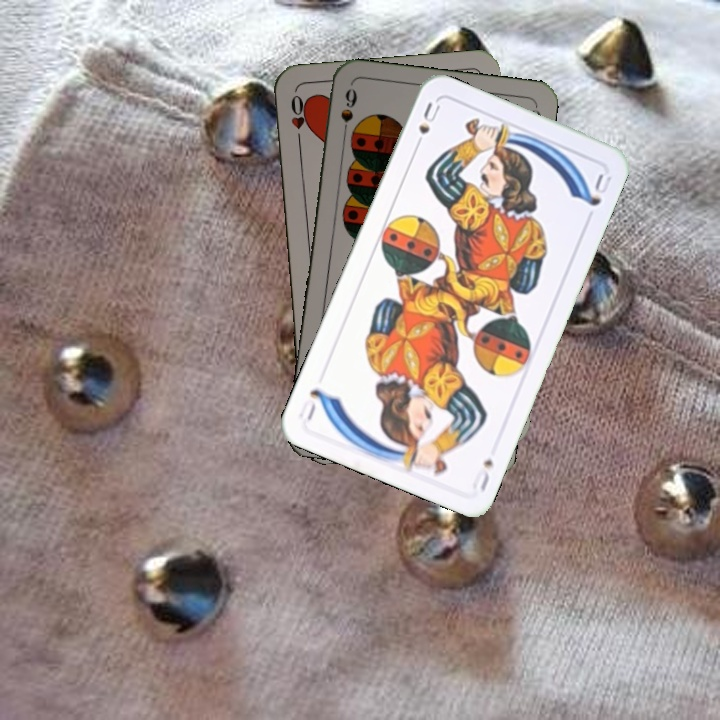HO: (286, 91, 310, 149)
S9: (337, 84, 360, 142)
SU: (409, 98, 443, 154), (468, 455, 496, 494)
